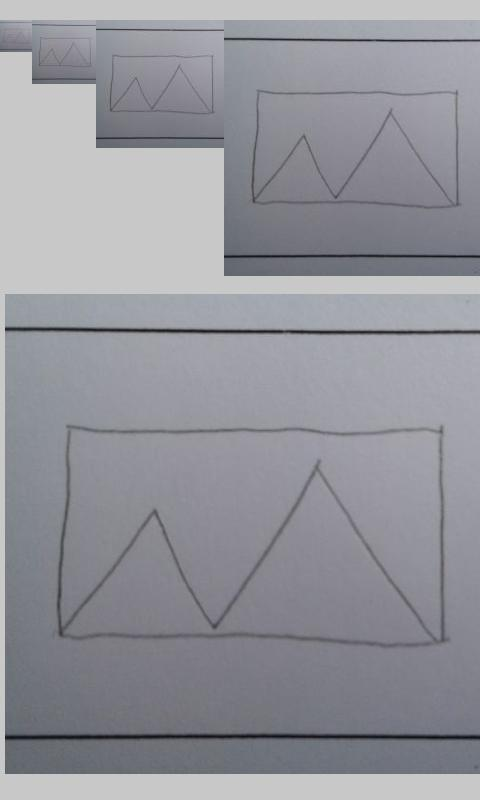image_view: (53, 420, 450, 652), (251, 88, 461, 209), (108, 52, 215, 117), (38, 37, 92, 68), (3, 28, 30, 44)
